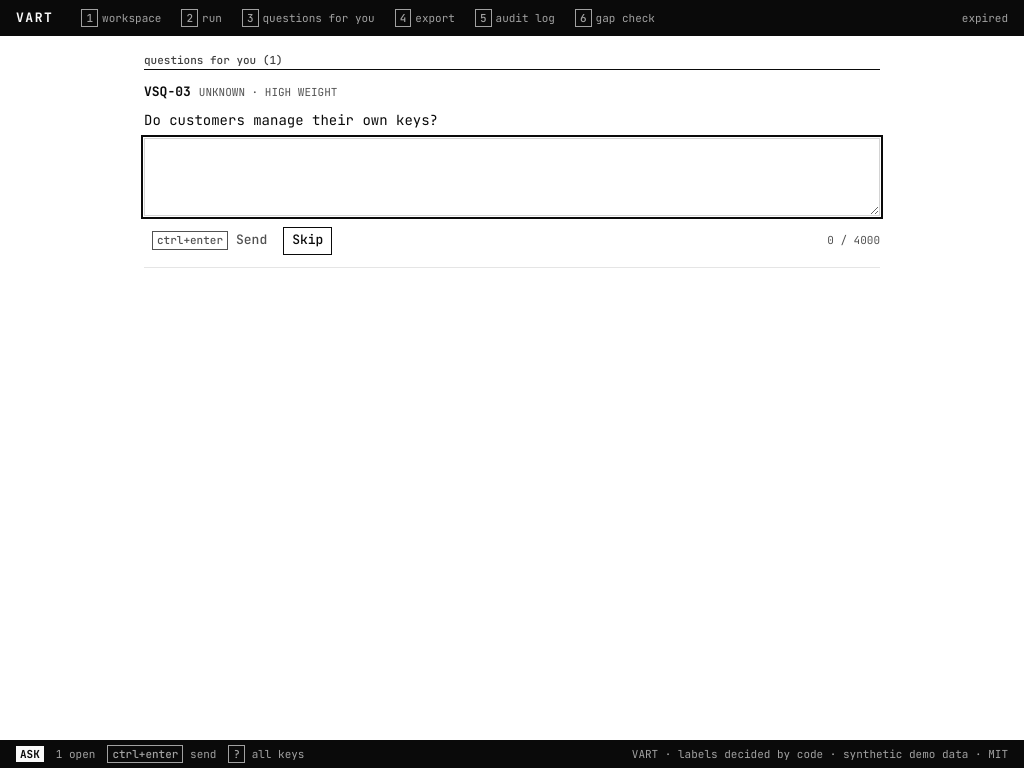
Scenario: Questions › says plainly when an answer filled nothing else
Type "Yes" into the text box named "your answer to VSQ-03".
click(512, 177); type("Yes")  # box [144,138,880,216]
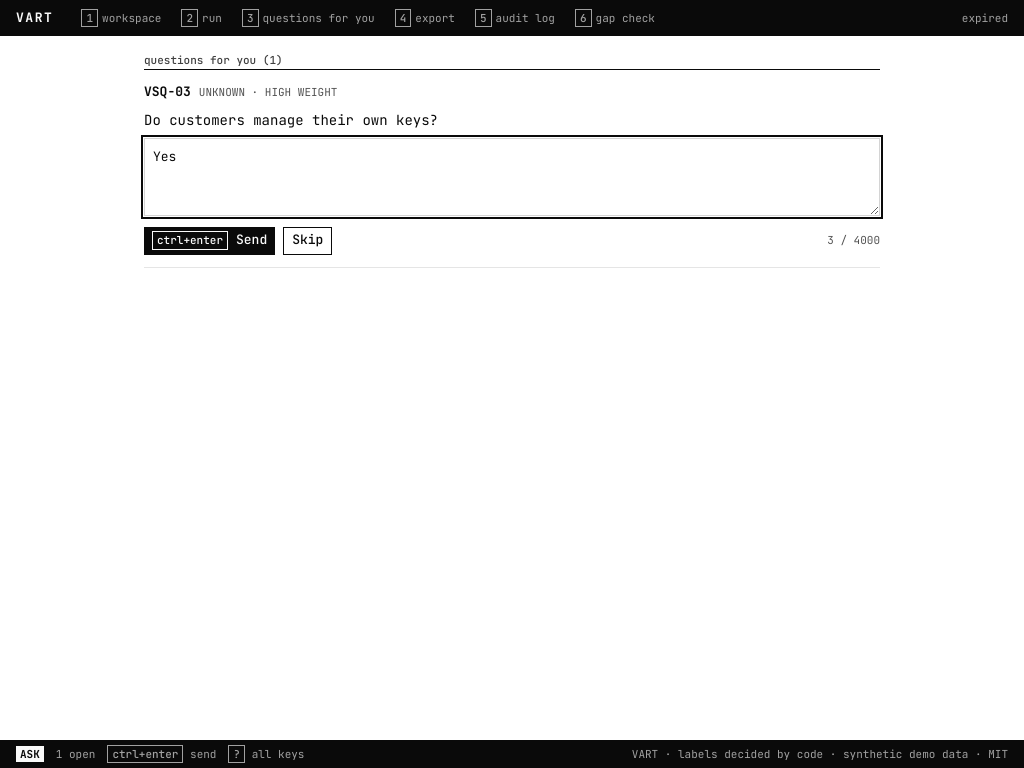
Click the button "ctrl+enter Send".
click(210, 240)  # box [144,226,275,254]
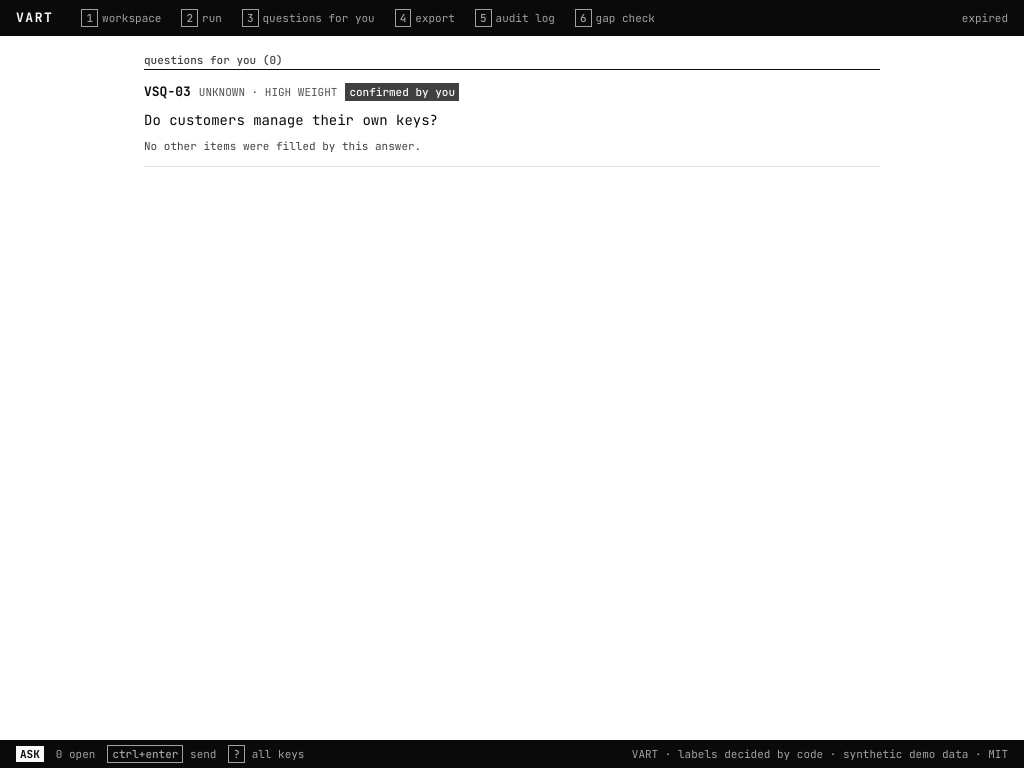
Check: the text "No other items were filled by this answer." is shown, box [144,139,421,153]
